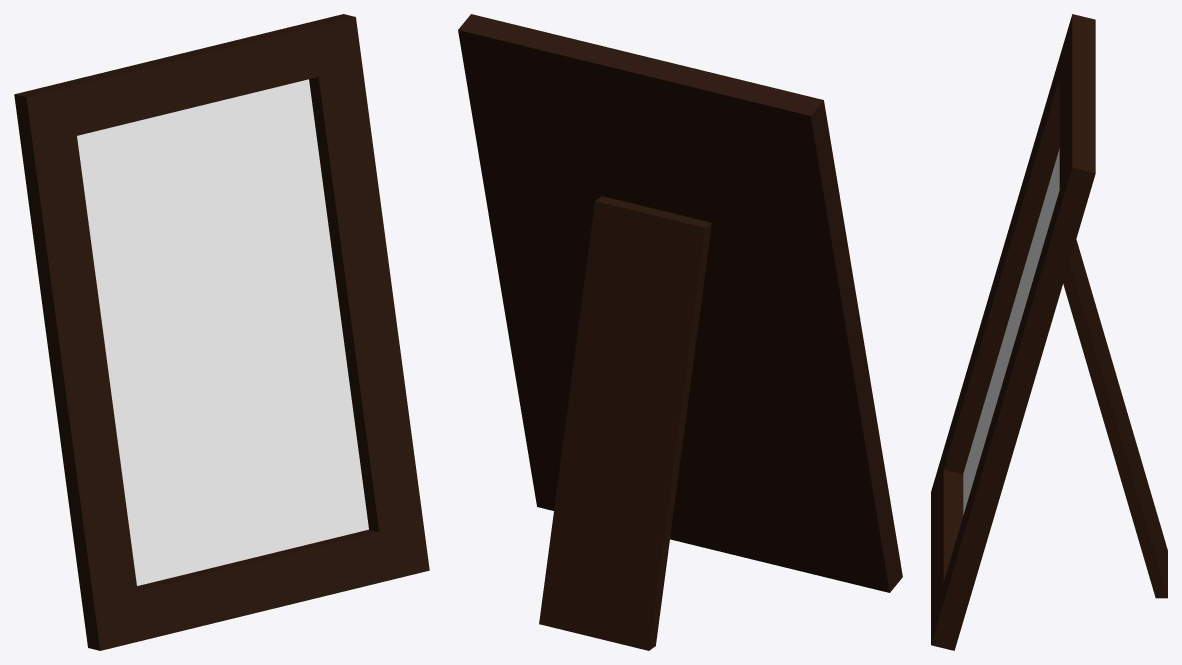
File: PictureBoard.fbx
3 views of the same model, side by side, from view 1: azimuth 30°, elevation 25°; view 2: azimuth 150°, elevation 25°; view 3: azimuth 270°, elevation 25° (orthographic). The views are drawn at different scales.
Parts seen in each view (by area): view 1: PictureBoard_starnick; view 2: PictureBoard_starnick; view 3: PictureBoard_starnick.
Boxes of the visible parts, box(x1,y1,x2,y2) form: PictureBoard_starnick: box(14, 14, 429, 650); PictureBoard_starnick: box(458, 14, 902, 650); PictureBoard_starnick: box(931, 14, 1167, 650).
Size of the model in its own units: 300 by 195 by 440.
